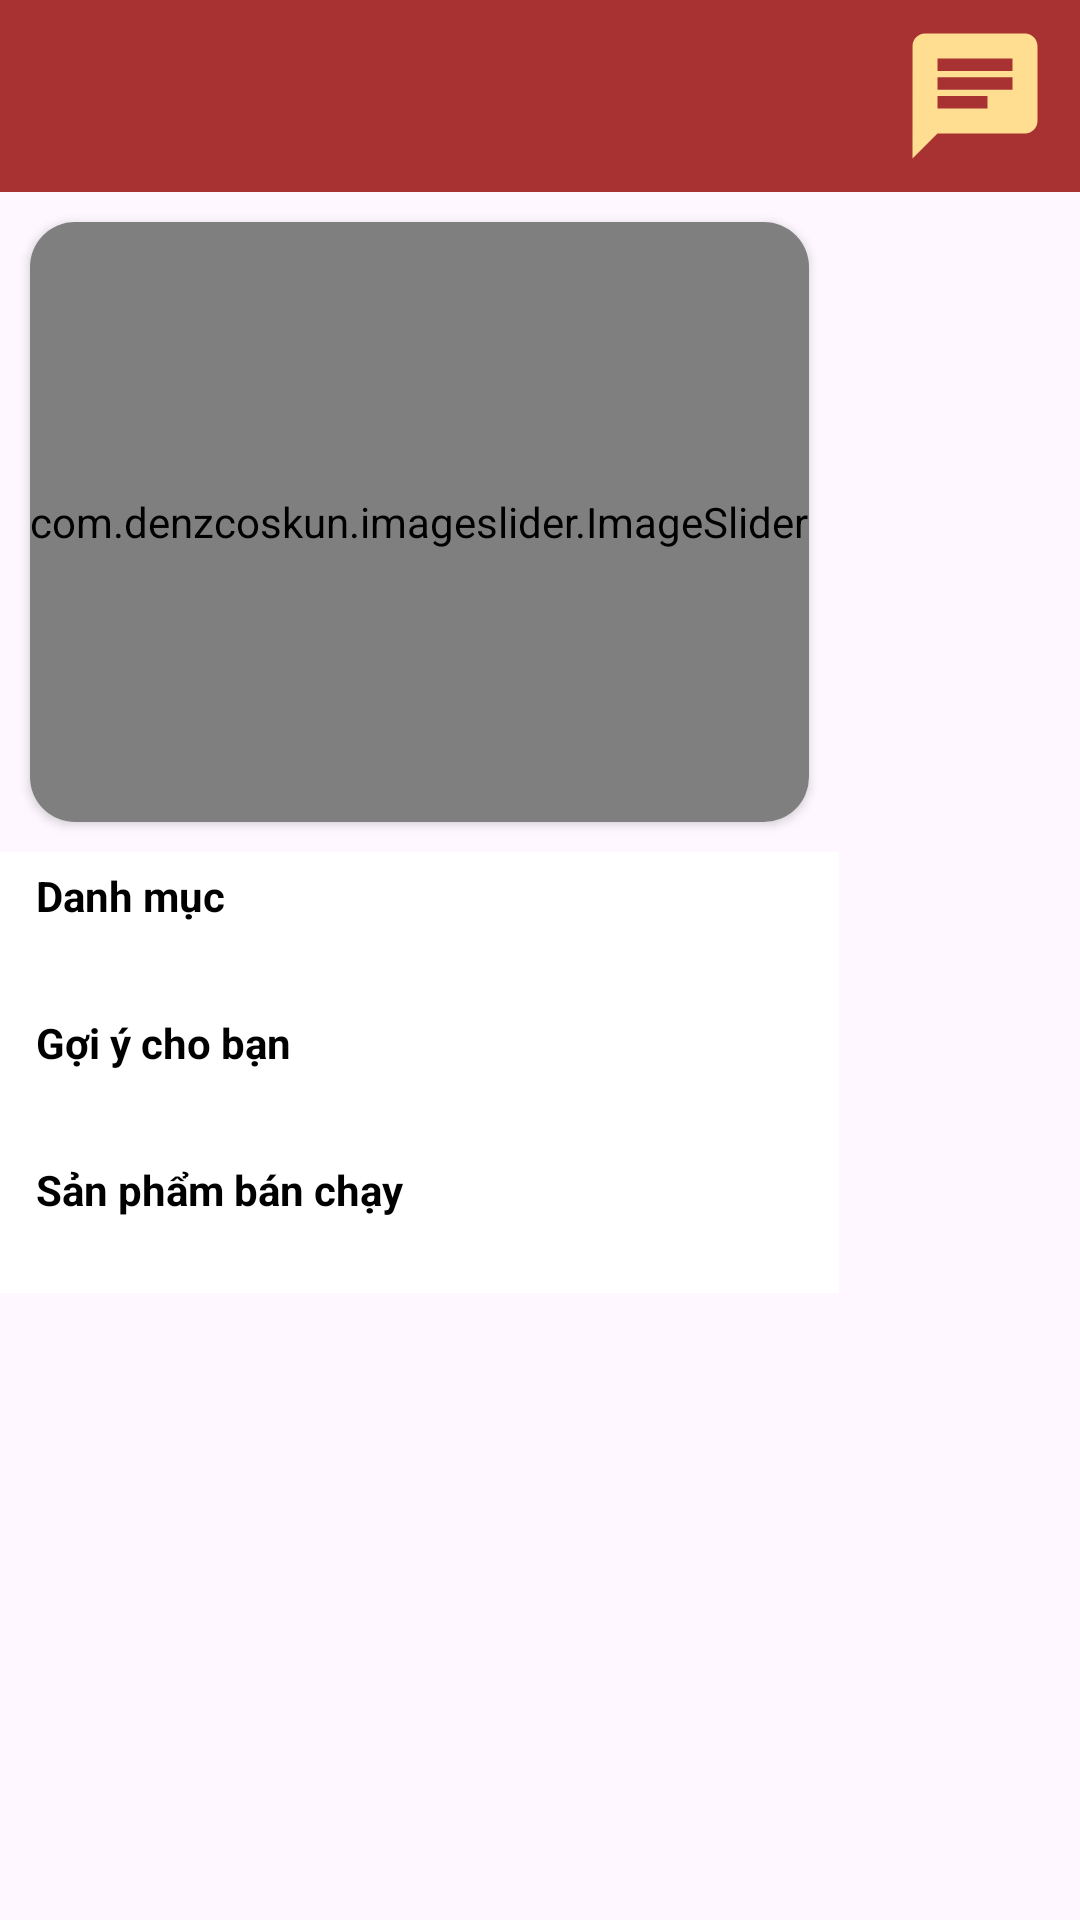

Named icons in this screenshot (1080 × 1920) and their bounding boxes, box=[x1, y1, x2, y2]:
chatbot: box=[912, 33, 1038, 158]
